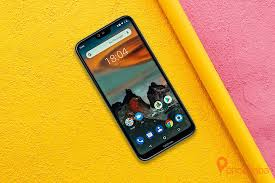nokia: (72, 15, 196, 162)
